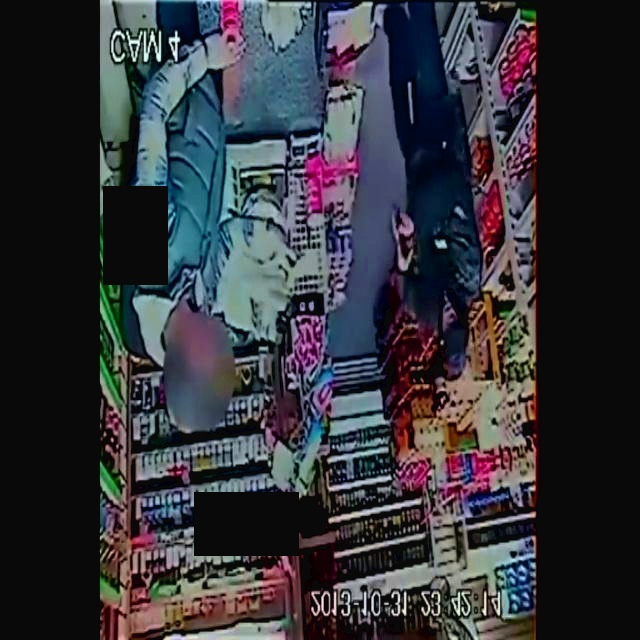gun: (388, 195, 415, 270)
